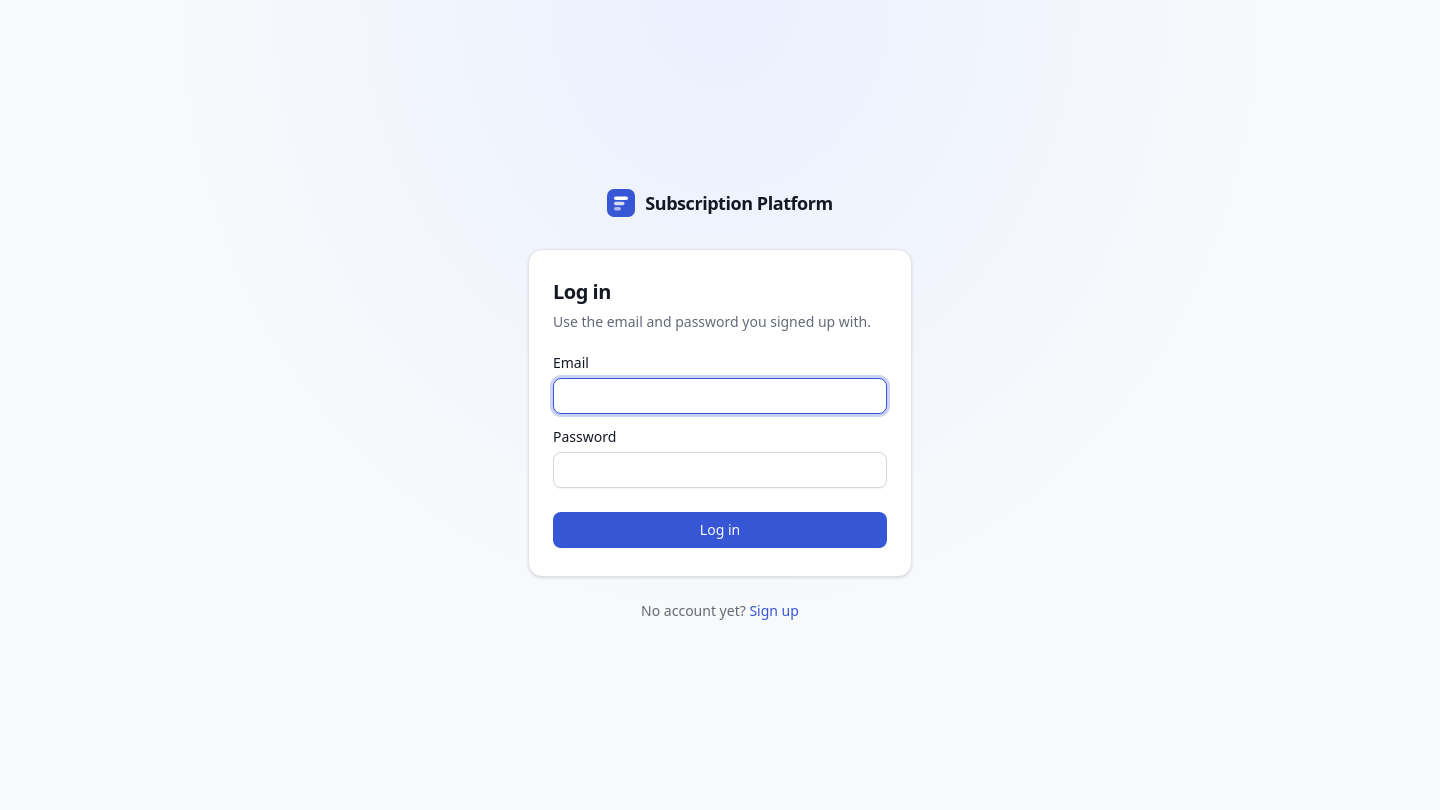
Scenario: auth › logs in with snake_case fields, stores the token and opens the page asked for
Type "staff@example.com" into the field labelled "Email".
click(720, 396); type("staff@example.com")  # box 553,378 -> 887,414
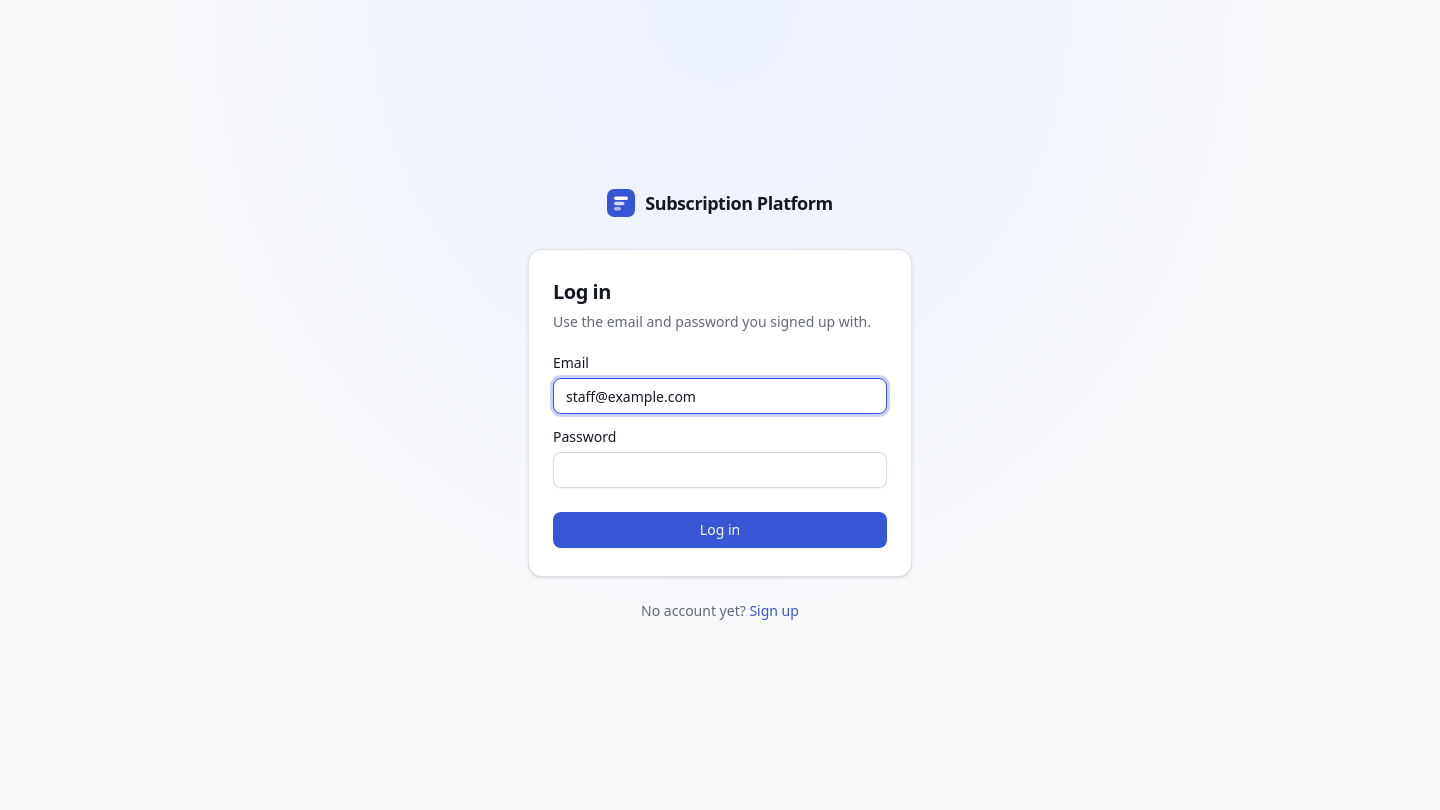
Type "secret-password" into the password field labelled "Password".
click(720, 470); type("secret-password")  # box 553,452 -> 887,488
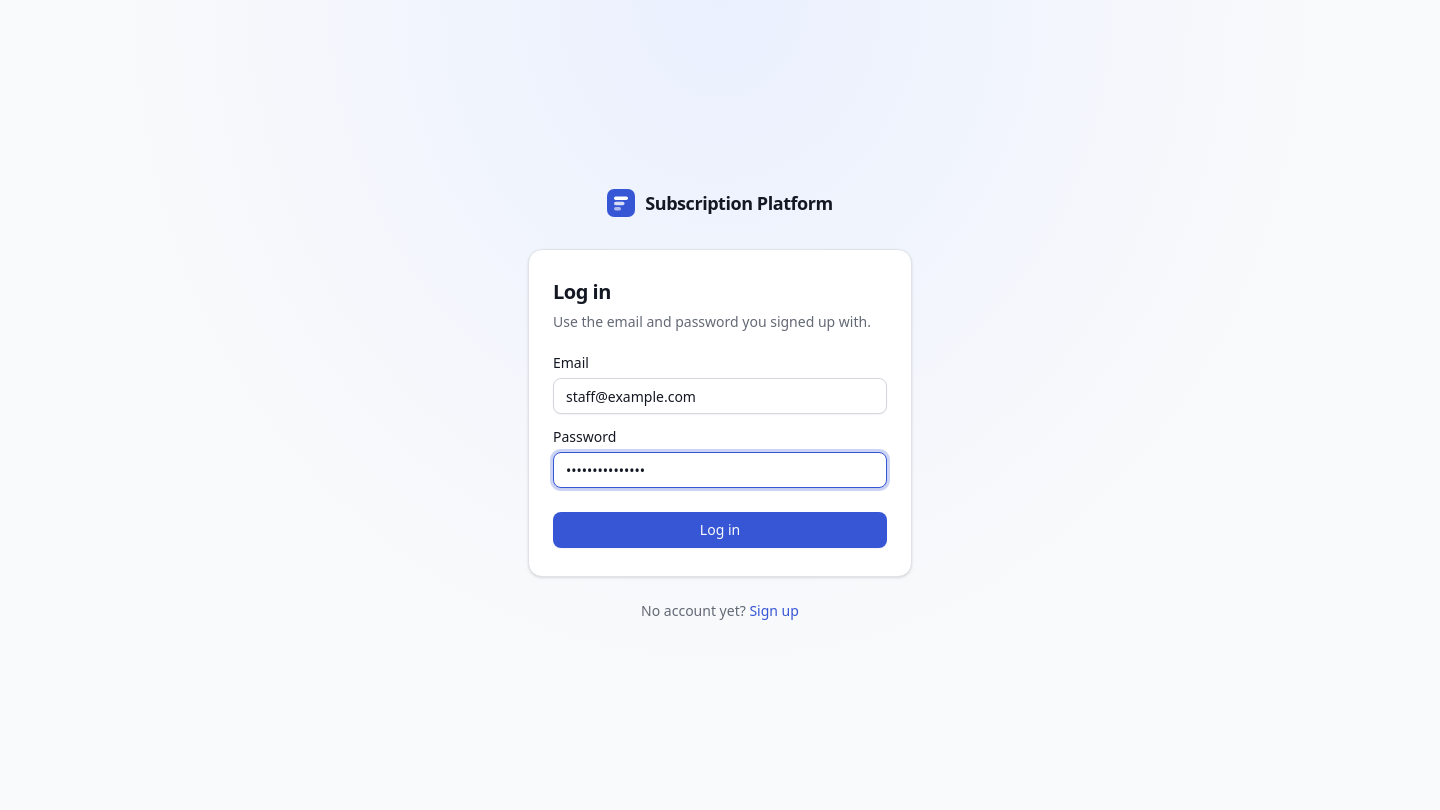
Click the button "Log in".
click(720, 530)  # box 553,512 -> 887,548
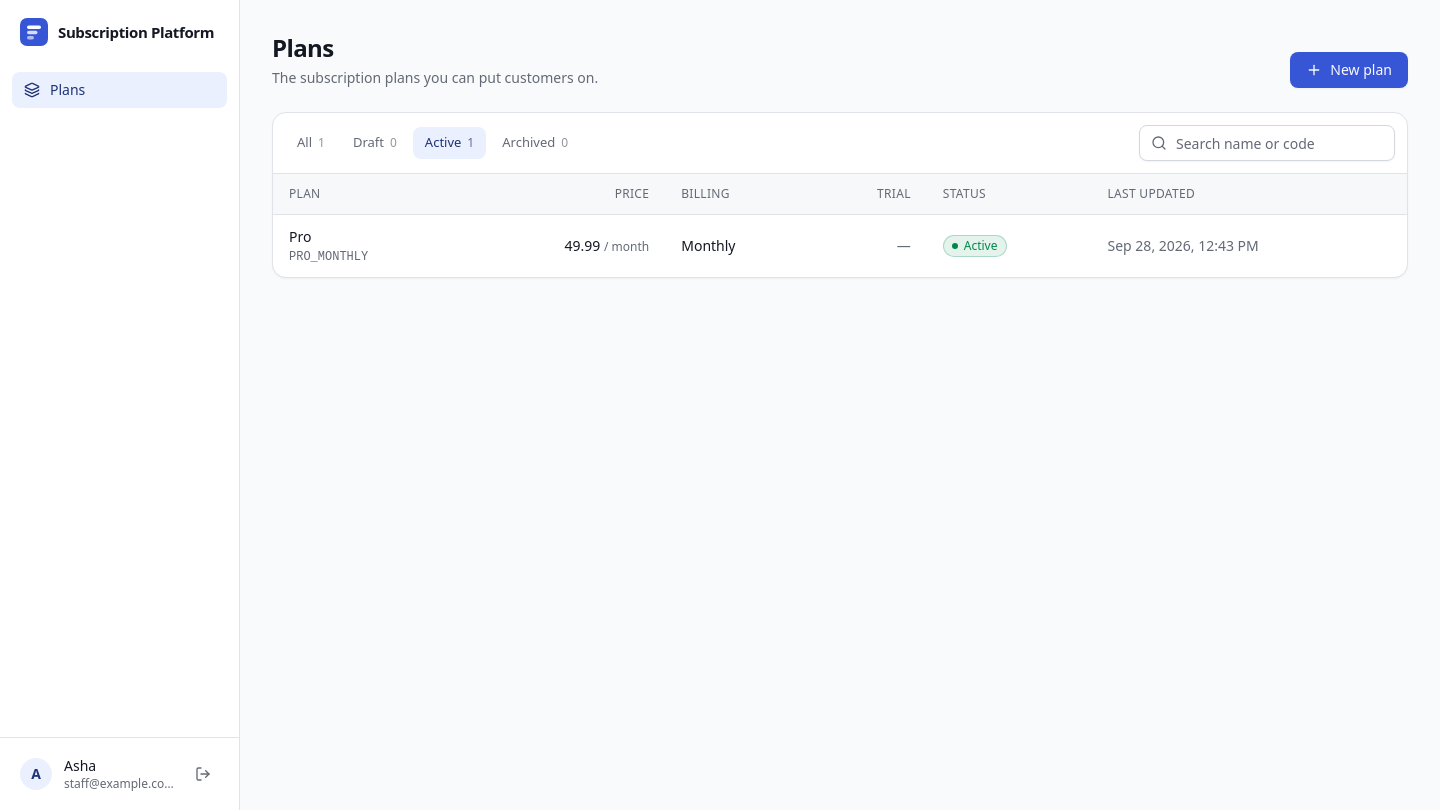
Expected: the link "Pro" is shown, 289,226 -> 312,246
Expected: the text "Asha" is shown, 64,756 -> 96,775
